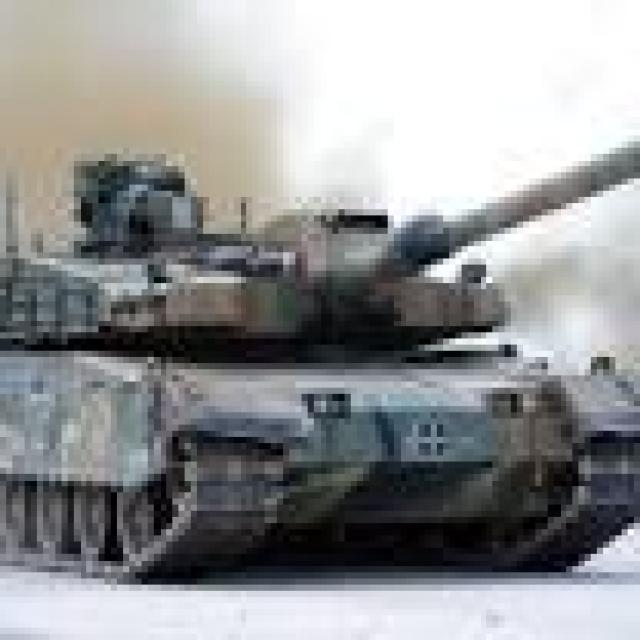Tanks: (3, 108, 631, 594)
